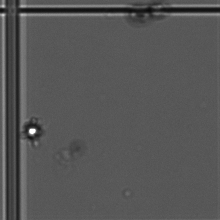Living Cell: (24, 117, 44, 143)
